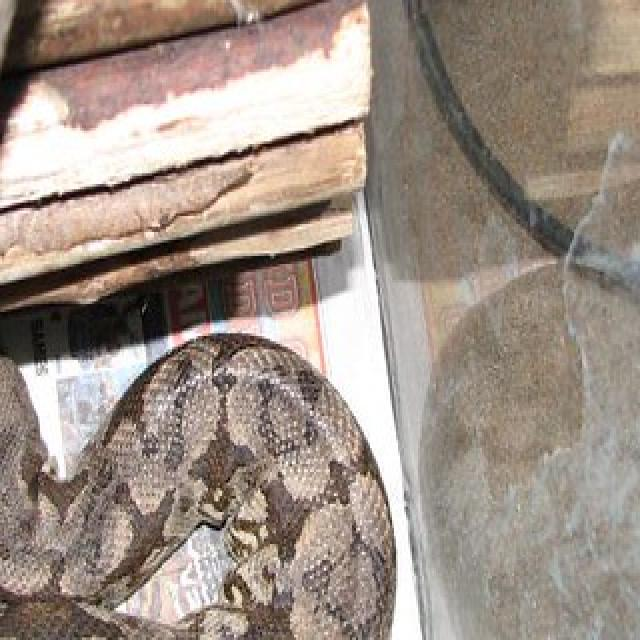Snake: (0, 328, 396, 640)
